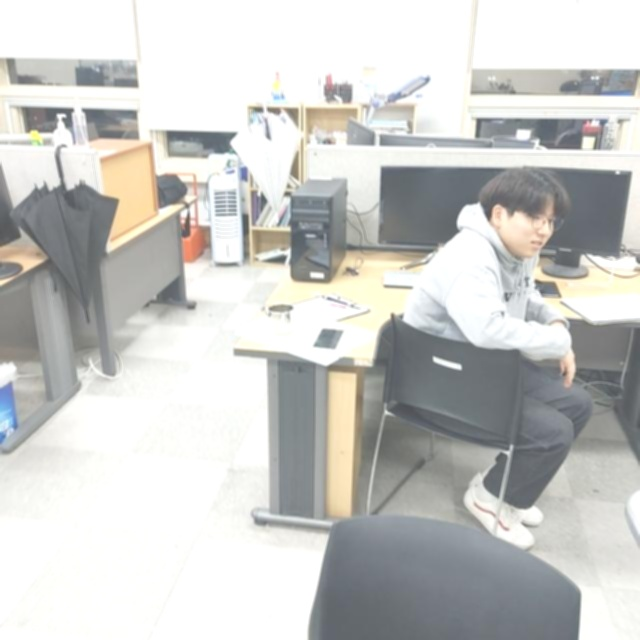cup: (261, 302, 295, 334)
phone: (315, 326, 344, 352)
